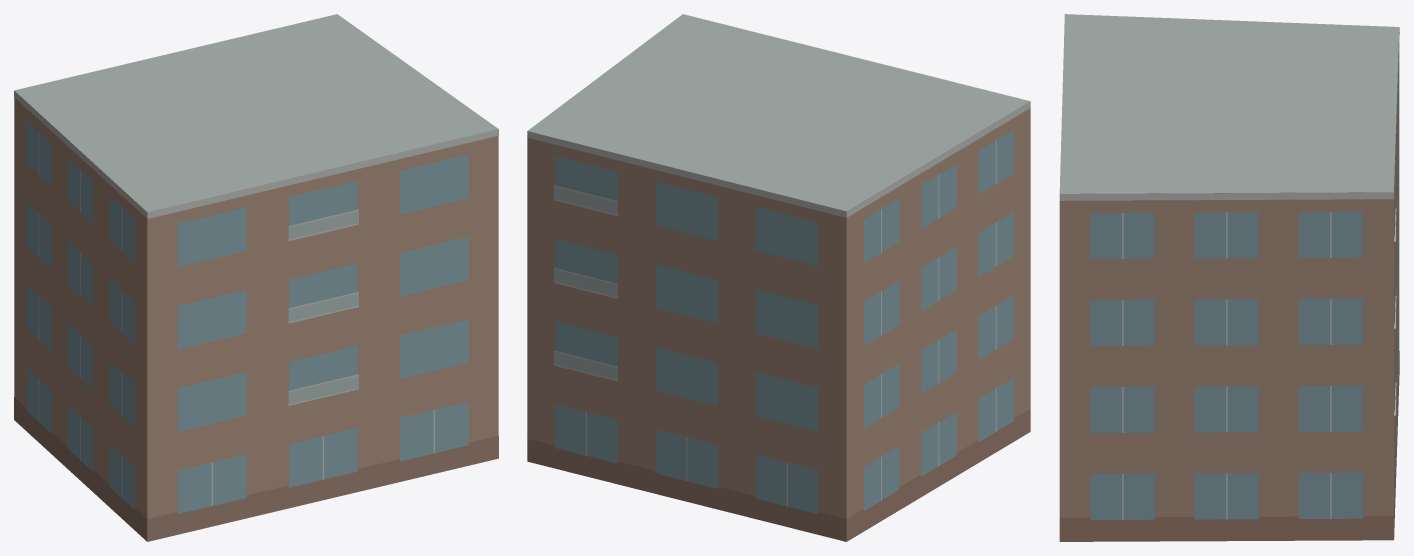
Rendered from survey-upis-32673109.glb.
The picture shows the model from 3 angles, left to right: view 1: azimuth 30°, elevation 25°; view 2: azimuth 150°, elevation 25°; view 3: azimuth 270°, elevation 25°; orthographic projection. The views are drawn at different scales.
Visible parts, largest first — view 1: survey-upis-32673109.tmp; view 2: survey-upis-32673109.tmp; view 3: survey-upis-32673109.tmp.
Part boxes in pixels (bbox=[...]): survey-upis-32673109.tmp: bbox=[14, 14, 498, 541]; survey-upis-32673109.tmp: bbox=[527, 14, 1030, 541]; survey-upis-32673109.tmp: bbox=[1059, 14, 1399, 541].
Bounding box in the file's own units: 13.53 × 12.2 × 10.8.
